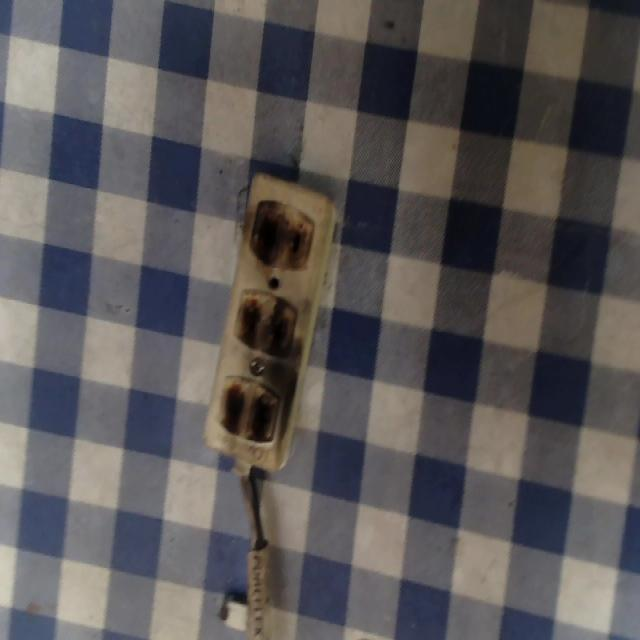-: (237, 186, 317, 274), (233, 289, 299, 362), (220, 375, 282, 445)
